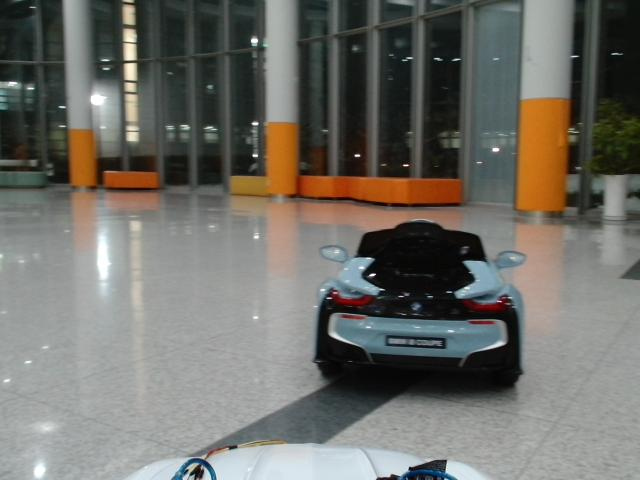car: (311, 219, 526, 391)
